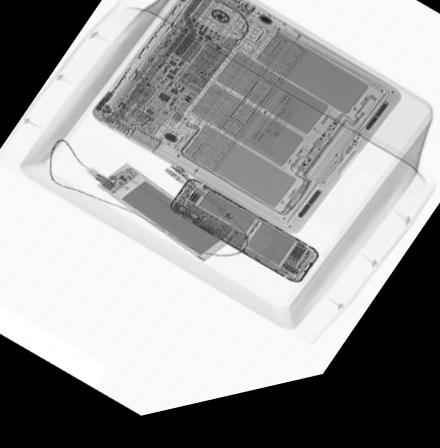Powerbank: (95, 168, 233, 273)
